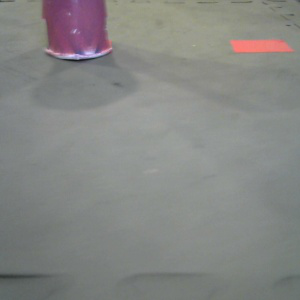right: (37, 1, 117, 64)
